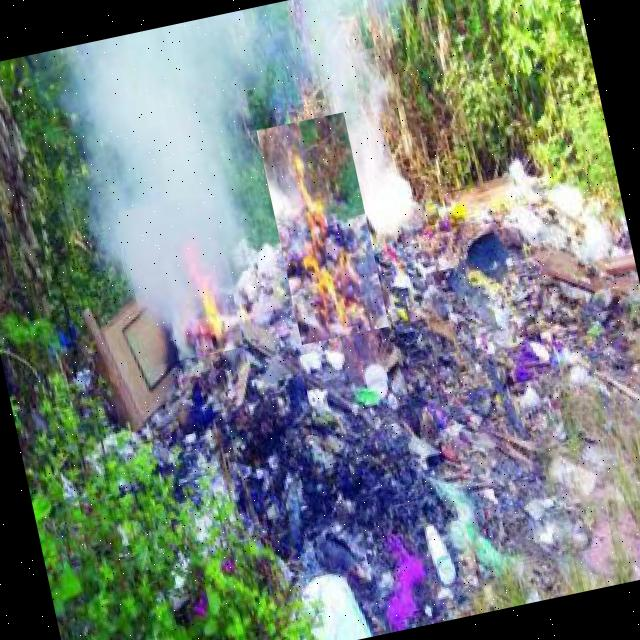fire: (256, 112, 389, 344), (117, 192, 244, 366)
